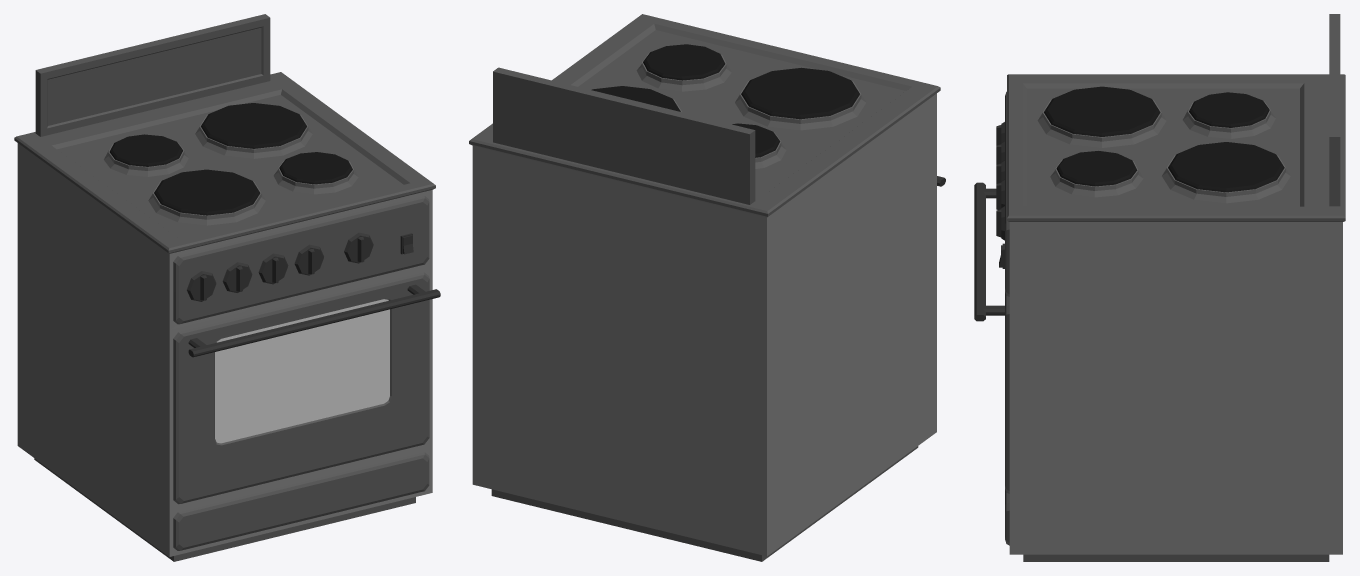
File: Int_KitchenStove01.fbx
3 views of the same model, side by side, from view 1: azimuth 30°, elevation 25°; view 2: azimuth 150°, elevation 25°; view 3: azimuth 270°, elevation 25° (orthographic). The views are drawn at different scales.
Parts seen in each view (by area): view 1: Int_KitchenStove01, Int_KitchenStoveDoor01; view 2: Int_KitchenStove01; view 3: Int_KitchenStove01, Int_KitchenStoveDoor01.
Part boxes in pixels (x1,y1,x2,y2): Int_KitchenStove01: (14, 14, 435, 561); Int_KitchenStoveDoor01: (173, 272, 440, 504); Int_KitchenStove01: (469, 14, 940, 561); Int_KitchenStove01: (996, 14, 1345, 561); Int_KitchenStoveDoor01: (974, 182, 1009, 493).
Size of what is drawn, in the model's own units: 102 by 111 by 140.
